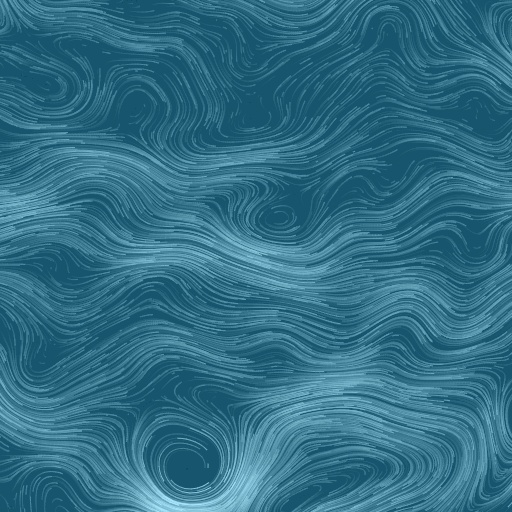eddy: (135, 419, 236, 503), (116, 84, 159, 128), (258, 203, 301, 235)
